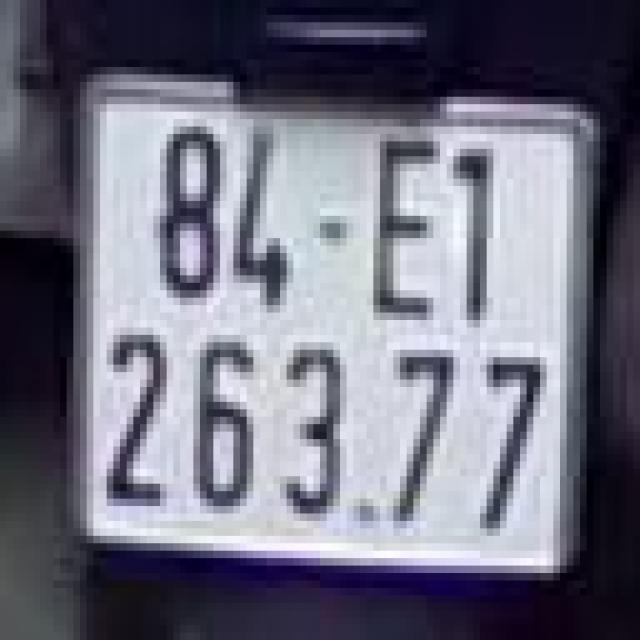1: (447, 126, 500, 328)
2: (93, 309, 180, 517)
3: (270, 323, 363, 540)
4: (227, 112, 300, 320)
6: (184, 327, 264, 521)
7: (384, 331, 464, 540), (470, 331, 550, 532)
8: (146, 119, 226, 313)
E: (364, 116, 444, 332)
